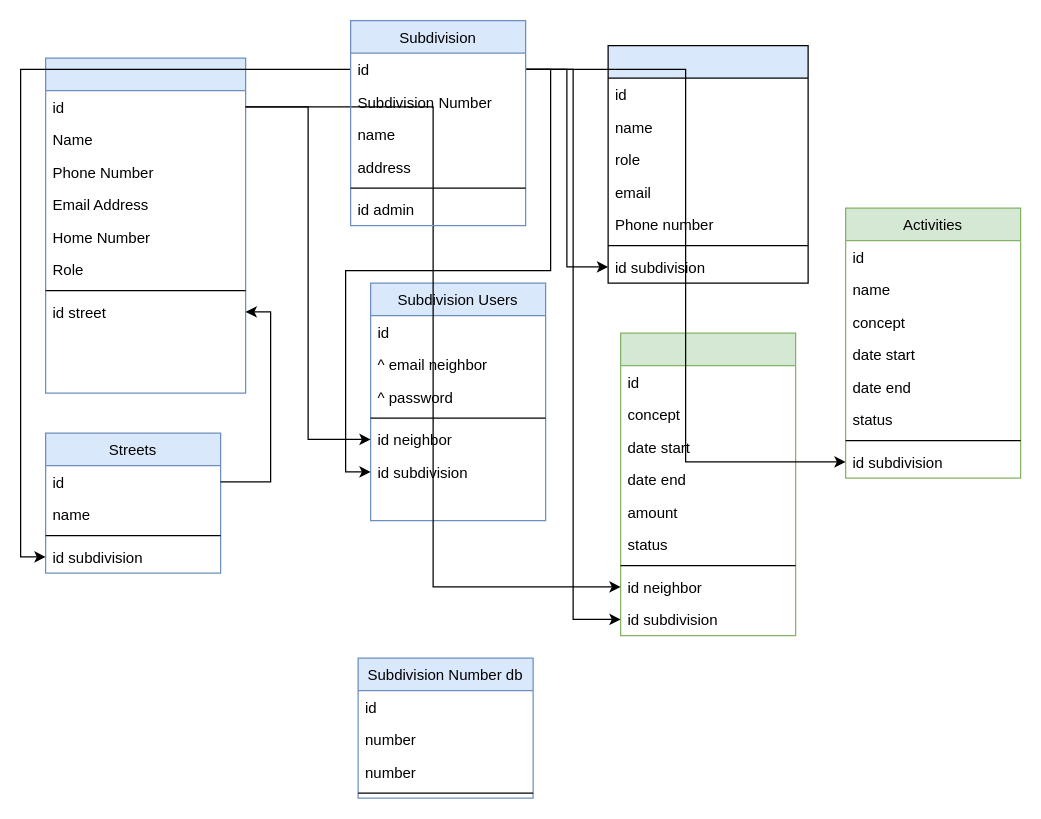
This 1041x819 diagram has some shape labels left out. The shapes that lost their labels are listed below. From the top down, each one's box as (x1, y1, x2, y2) in pixels, then its label:
(607, 44, 808, 283): Admins
(44, 57, 246, 393): Neighbor
(619, 332, 796, 636): contributions
